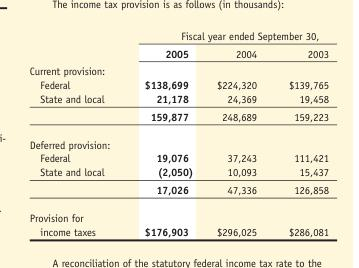table: (28, 29, 328, 237)
table column: (28, 29, 123, 237), (123, 29, 204, 237), (204, 29, 272, 237), (272, 29, 328, 237)
table column header: (28, 29, 328, 61)
table projected row header: (28, 130, 328, 150), (28, 61, 328, 77)
table row: (28, 203, 328, 237), (28, 107, 328, 130), (28, 180, 328, 203), (28, 130, 328, 150), (28, 43, 328, 61), (28, 61, 328, 77), (28, 91, 328, 107), (28, 164, 328, 180), (28, 29, 328, 43), (28, 77, 328, 91), (28, 150, 328, 164)
table spanning cell: (123, 29, 328, 43)
